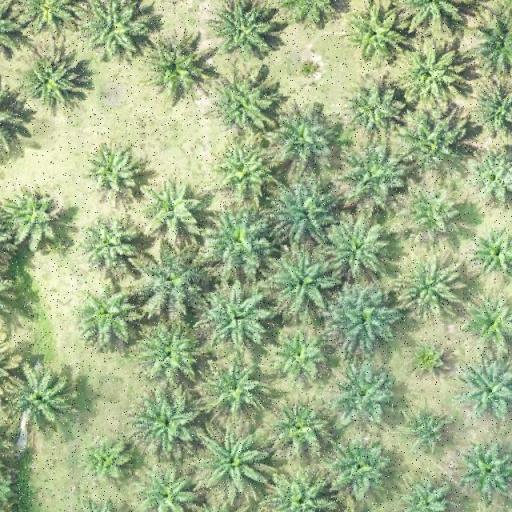Ganoderma: (414, 346, 444, 372)
